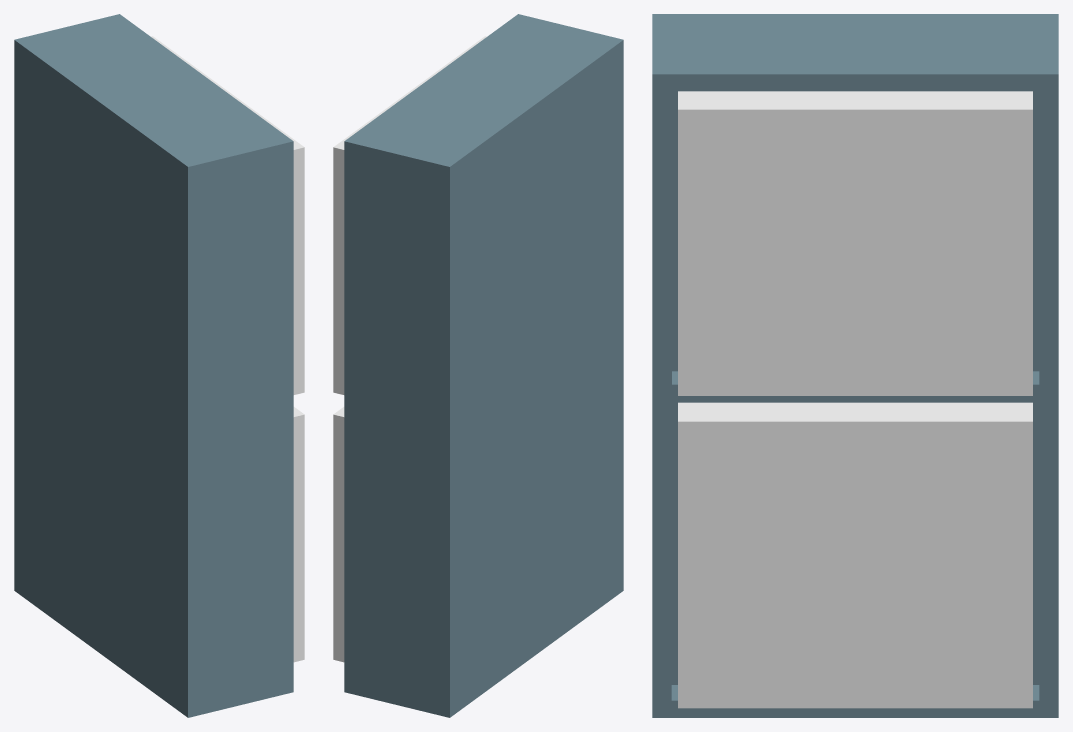
File: Light switch.fbx
3 views of the same model, side by side, from view 1: azimuth 30°, elevation 25°; view 2: azimuth 150°, elevation 25°; view 3: azimuth 270°, elevation 25° (orthographic). The views are drawn at different scales.
Visible parts, largest first — view 1: pCube1, pCube2, pCube3; view 2: pCube1, pCube2, pCube3; view 3: pCube3, pCube2, pCube1.
Part boxes in pixels (box(x1,y1,x2,y2)): pCube1: box(14, 14, 293, 717); pCube2: box(151, 36, 304, 394); pCube3: box(293, 407, 304, 662); pCube1: box(344, 14, 623, 717); pCube2: box(333, 36, 486, 394); pCube3: box(333, 407, 344, 662); pCube3: box(678, 402, 1032, 708); pCube2: box(678, 91, 1032, 395); pCube1: box(652, 14, 1058, 717).
Bounding box in the file's own units: 5.72 × 23.57 × 13.49.
